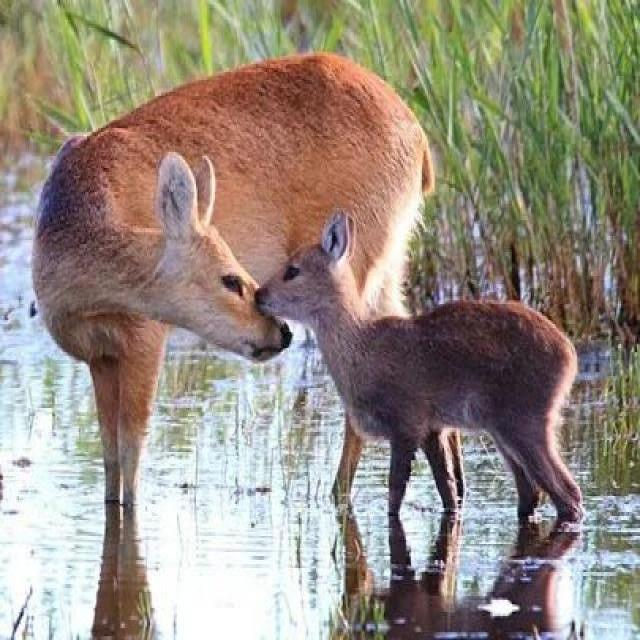deer: (42, 67, 580, 454), (253, 205, 586, 540)
